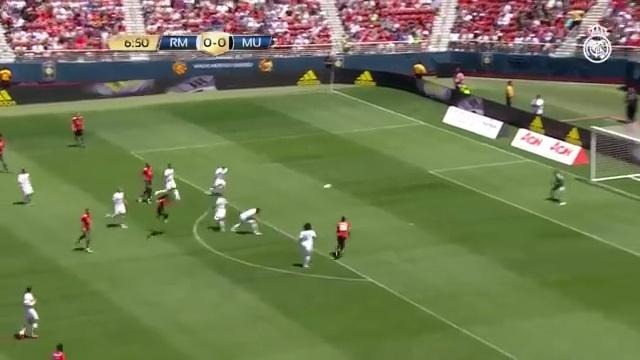football: (320, 182, 336, 191)
player: (18, 287, 38, 338), (155, 164, 180, 200), (107, 187, 127, 227), (298, 223, 316, 267), (231, 208, 261, 234), (332, 216, 350, 258), (77, 208, 91, 252), (17, 168, 33, 204), (138, 163, 152, 203), (207, 167, 227, 195), (550, 170, 565, 205), (213, 196, 227, 231), (71, 112, 83, 146), (156, 194, 168, 222), (0, 134, 8, 172), (51, 343, 64, 359)
